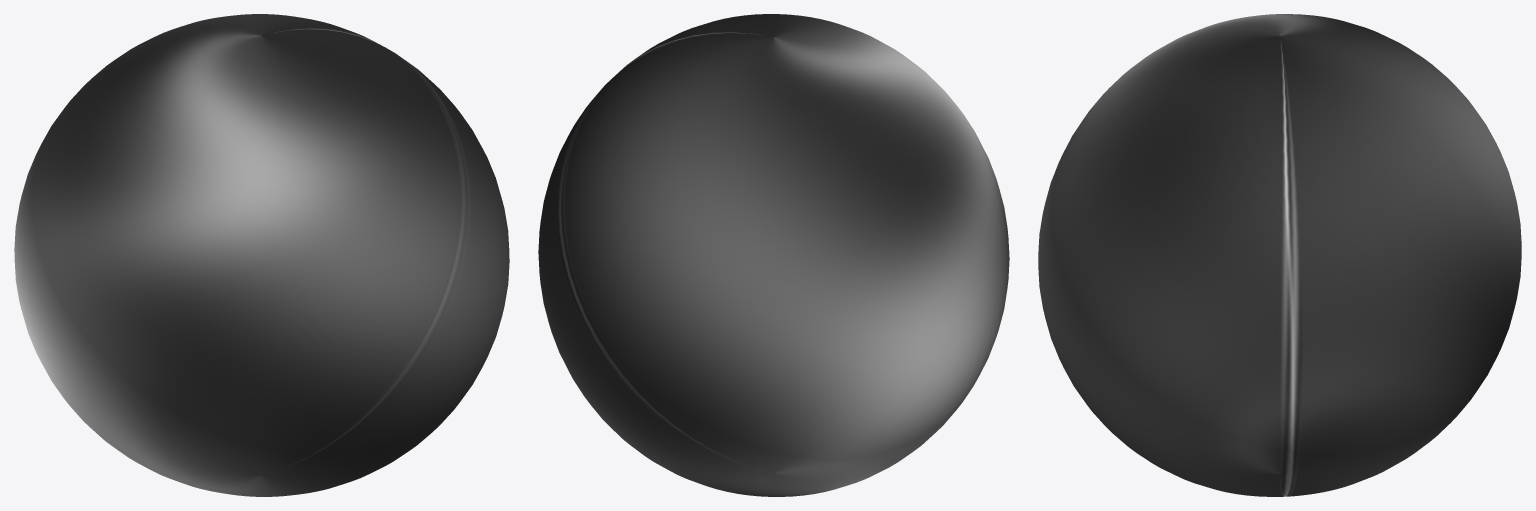
File: water_orb.obj
3 renders of one model, left to right at view 1: azimuth 30°, elevation 25°; view 2: azimuth 150°, elevation 25°; view 3: azimuth 270°, elevation 25°, orthographic.
Bounding box in the file's own units: 2 × 2 × 2.
1 material, 1 textured.
